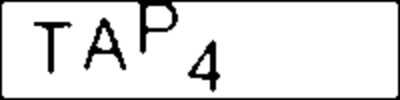4: (186, 35, 222, 94)
A: (81, 14, 129, 72)
P: (133, 1, 184, 58)
T: (31, 18, 75, 74)
